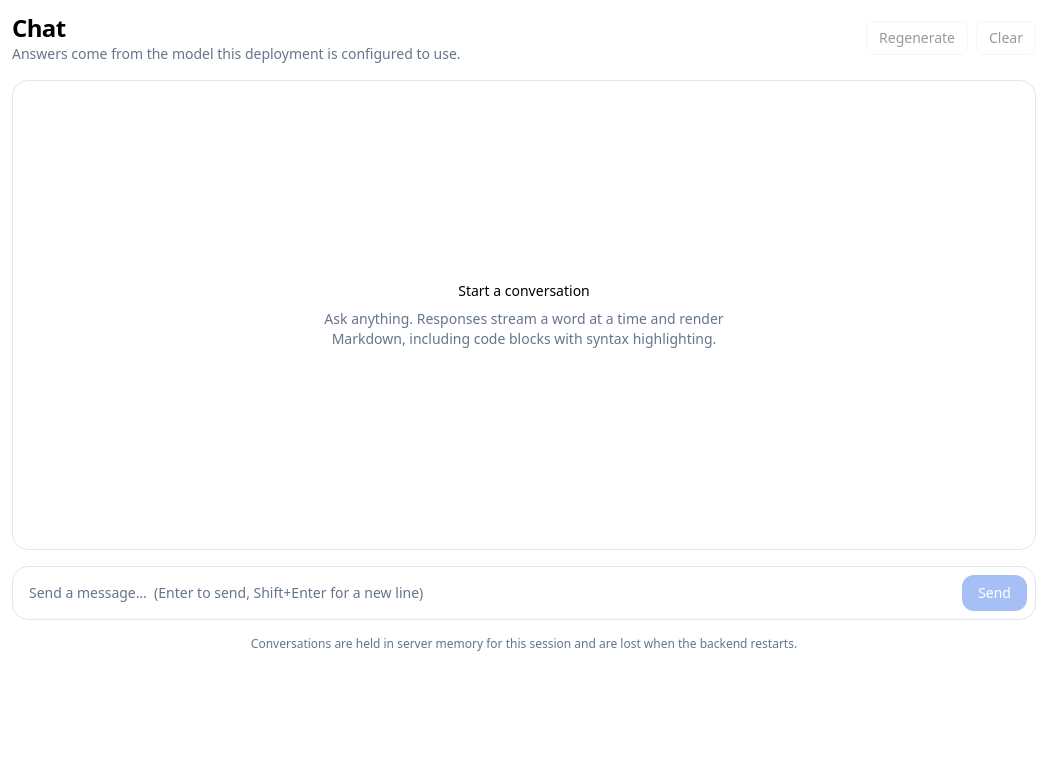
Test: ChatPage › renders the streamed answer
The image size is (1048, 780).
Type "hello" into the text box labelled "message" at x=488, y=593, box [21, 575, 954, 611]
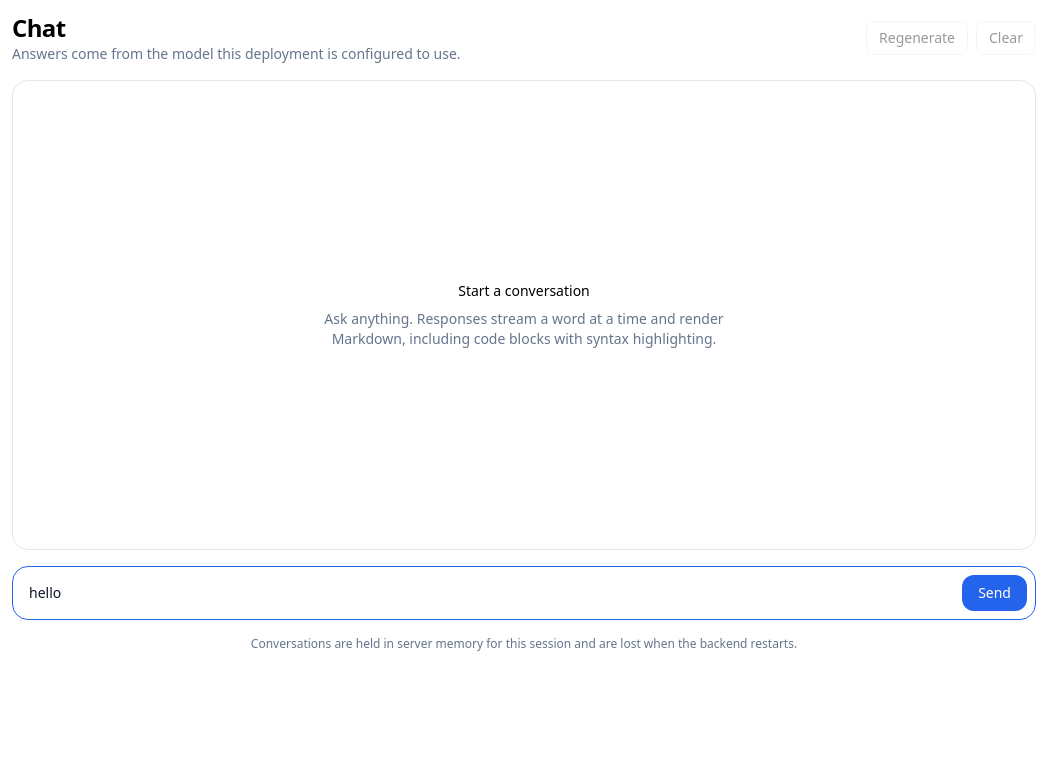
Click the button "Send" at x=995, y=593, box [962, 575, 1027, 611]
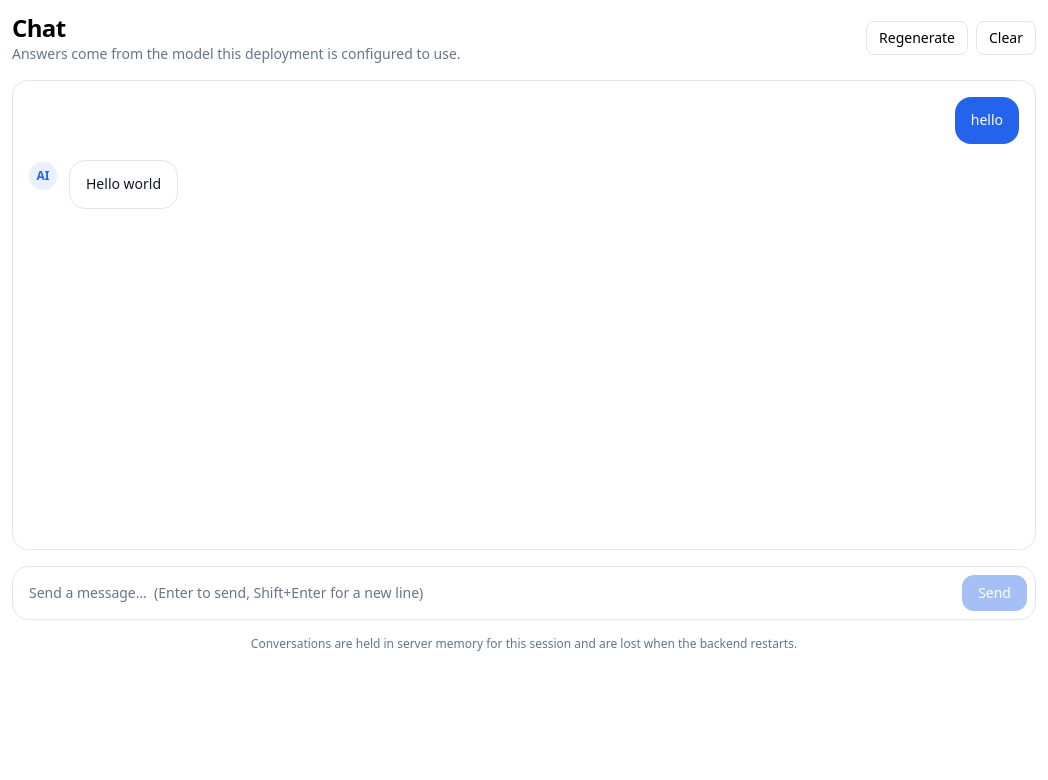
Check: the text "Hello world" is shown, box [86, 173, 161, 196]
